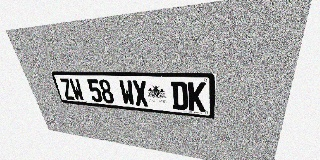5: (87, 79, 103, 103)
8: (98, 79, 115, 104)
D: (171, 81, 188, 110)
K: (188, 82, 206, 112)
W: (118, 80, 136, 106), (68, 78, 85, 101)
X: (132, 80, 149, 107)
Z: (59, 78, 75, 100)
